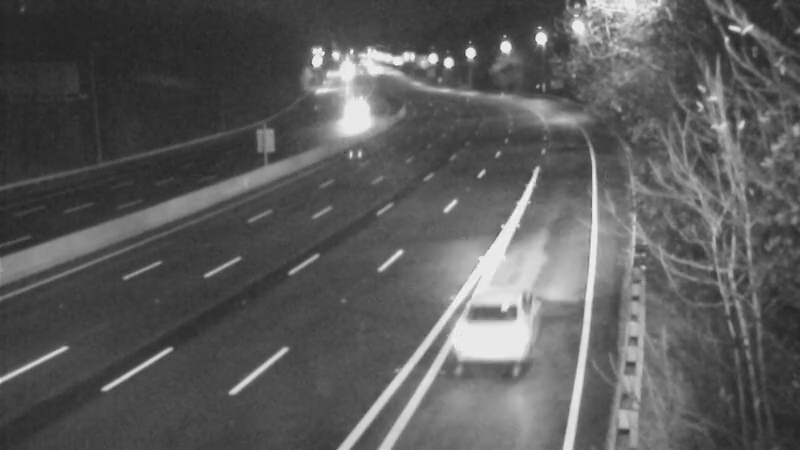vehicle: (438, 288, 548, 398), (328, 89, 378, 139)
